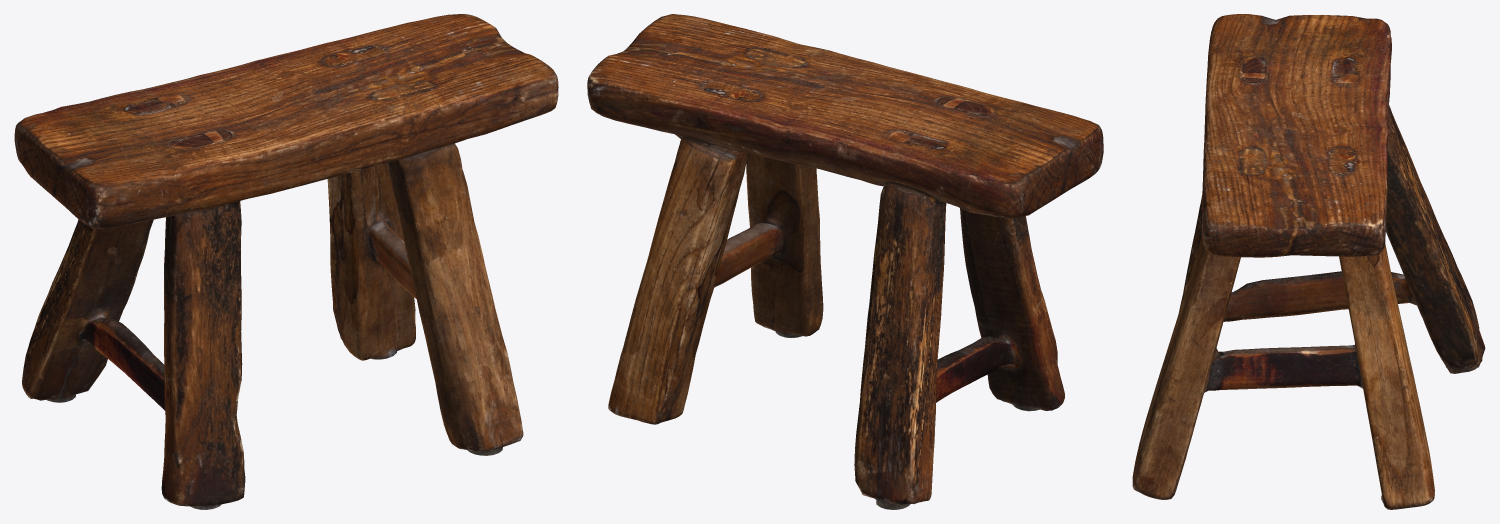
Rendered from wooden_stool_02.glb.
3 renders of one model, left to right at view 1: azimuth 30°, elevation 25°; view 2: azimuth 150°, elevation 25°; view 3: azimuth 270°, elevation 25°, orthographic. The views are drawn at different scales.
Parts seen in each view (by area): view 1: wooden_stool_02; view 2: wooden_stool_02; view 3: wooden_stool_02.
Boxes of the visible parts, x1,y1,x2,y2 form: wooden_stool_02: (14, 14, 558, 509); wooden_stool_02: (587, 14, 1103, 509); wooden_stool_02: (1132, 14, 1485, 509).
Bounding box in the file's own units: 0.2652 × 0.1819 × 0.1831.
1 material, 1 textured.
